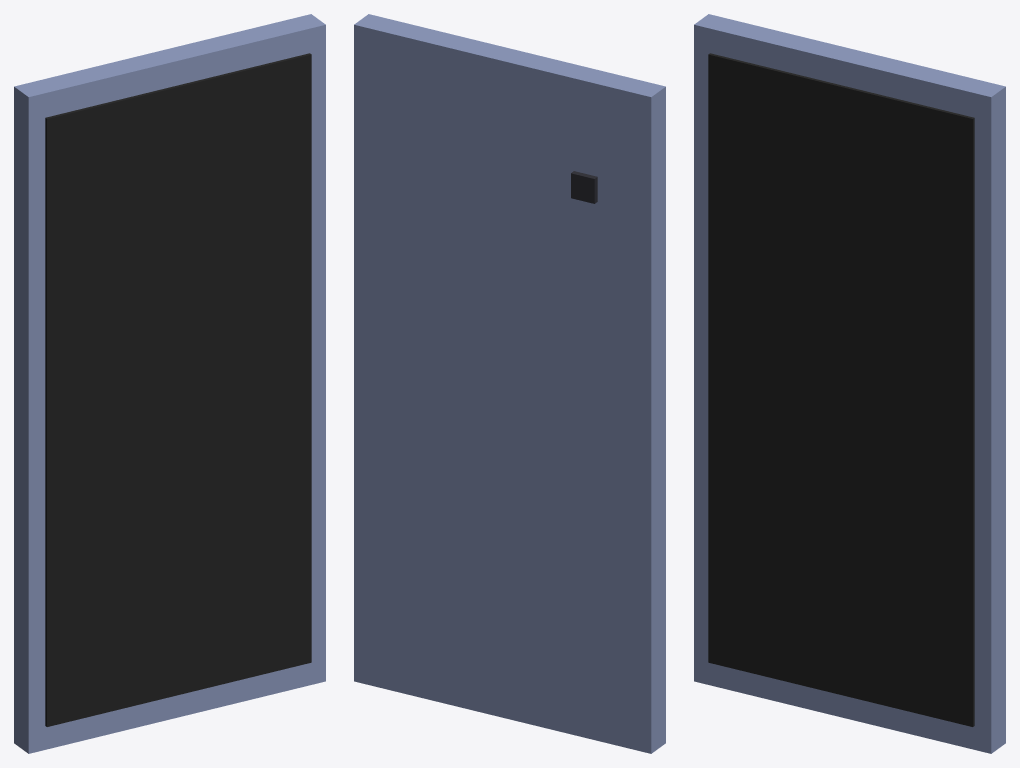
File: iphone-16-plus.glb
3 renders of one model, left to right at view 1: azimuth 30°, elevation 25°; view 2: azimuth 150°, elevation 25°; view 3: azimuth 330°, elevation 25°, orthographic.
Visible parts, largest first — view 1: tela, corpo; view 2: corpo, lente-0; view 3: tela, corpo.
Boxes of the visible parts, <box> form: tela: <box>45,53,311,726</box>; corpo: <box>14,14,325,753</box>; corpo: <box>354,14,665,753</box>; lente-0: <box>571,171,597,203</box>; tela: <box>708,53,974,726</box>; corpo: <box>694,14,1005,753</box>.
Bounding box in the file's own units: 0.8739 × 1.84 × 0.1009.
